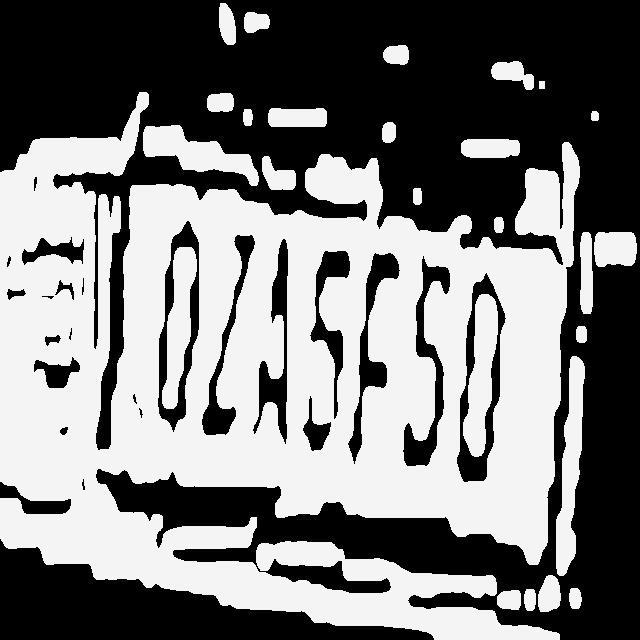0: (456, 269, 512, 486)
5: (298, 242, 349, 460), (406, 257, 454, 472)
a: (254, 232, 296, 446)
f: (352, 248, 398, 466)
q: (154, 213, 204, 433)
z: (203, 225, 256, 440)
